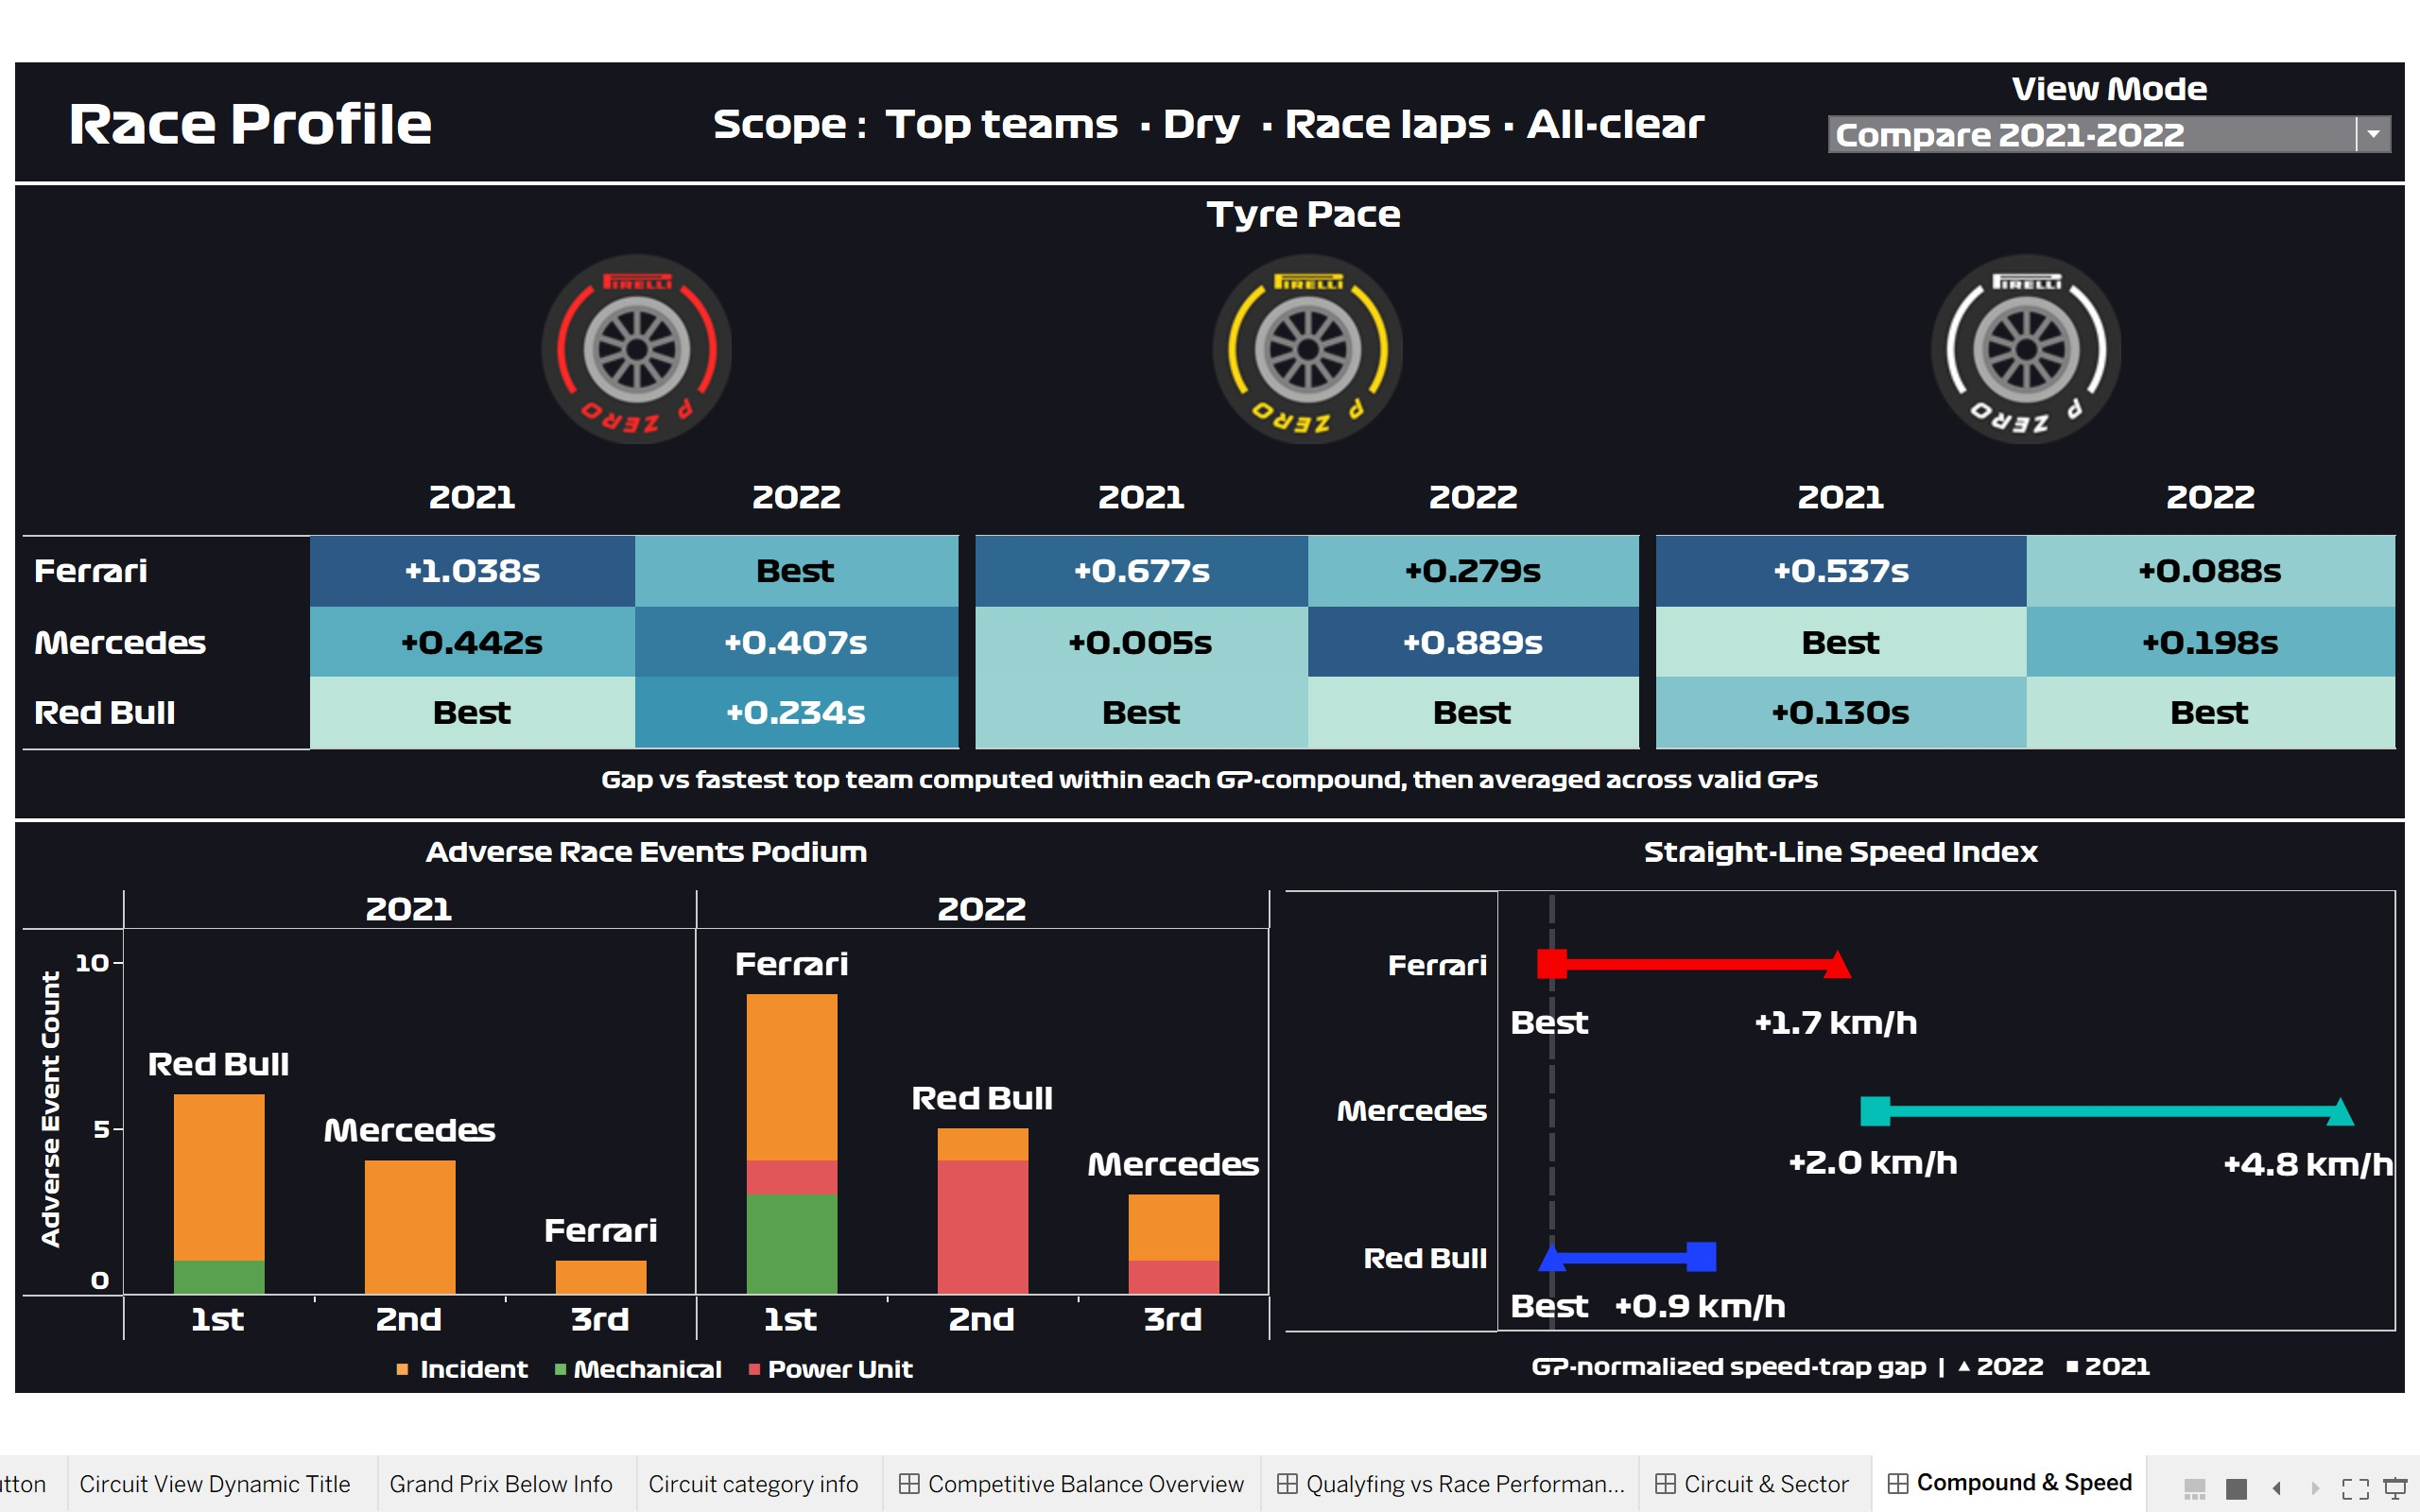

What the dashboard file says about the page in this screenshot:
{"tool":"tableau","page":{"name":"Compound & Speed","canvas":[1280,720],"ordinal":2},"visuals":[{"type":"text","box":[8,8,361,63]},{"type":"text","box":[369,8,591,63]},{"type":"parameter","param":"[Parameters].[Parameter 4]","box":[960,8,312,63]},{"type":"text","box":[8,73,1264,23]},{"type":"blank","box":[8,98,153,109]},{"type":"image","param":"Image/soft_tyre.png","box":[161,98,351,109]},{"type":"image","param":"Image/medium_tyre.png","box":[512,98,360,109]},{"type":"image","param":"Image/hard_tyre.png","box":[872,98,400,109]},{"type":"worksheet","title":"Tyre Pace — Soft","mark":"Square","rows":["team_name"],"cols":["season_year"],"box":[8,207,504,162]},{"type":"worksheet","title":"Tyre Pace — Medium","mark":"Square","rows":["team_name"],"cols":["season_year"],"box":[512,207,360,162]},{"type":"worksheet","title":"Tyre Pace — Hard","mark":"Square","rows":["team_name"],"cols":["season_year"],"box":[872,207,400,162]},{"type":"text","box":[8,369,1264,18]},{"type":"worksheet","title":"Adverse Race Events Podium","mark":"Text","rows":["Calculation_3198775210897408","Calculation_1434608050249745"],"cols":["season_year"],"box":[8,403,668,309]},{"type":"worksheet","title":"Straight-Line Speed Index","mark":"Line","rows":["team_name"],"box":[676,403,596,281]},{"type":"worksheet","title":"Speed Shape Legend","mark":"Automatic","box":[676,684,596,28]}]}

Visuals, with their boxes on the page's 1280x720 design canvas (x1, y1, x2, y2). These are canvas units, not pixel positions in the 2420x1512 screenshot, which may show the page scaled, cropped or inside an application window:
text: select_region(8, 8, 369, 71)
text: select_region(369, 8, 960, 71)
parameter: select_region(960, 8, 1272, 71)
text: select_region(8, 73, 1272, 96)
blank: select_region(8, 98, 161, 207)
image: select_region(161, 98, 512, 207)
image: select_region(512, 98, 872, 207)
image: select_region(872, 98, 1272, 207)
"Tyre Pace — Soft" worksheet (Square marks): select_region(8, 207, 512, 369)
"Tyre Pace — Medium" worksheet (Square marks): select_region(512, 207, 872, 369)
"Tyre Pace — Hard" worksheet (Square marks): select_region(872, 207, 1272, 369)
text: select_region(8, 369, 1272, 387)
"Adverse Race Events Podium" worksheet (Text marks): select_region(8, 403, 676, 712)
"Straight-Line Speed Index" worksheet (Line marks): select_region(676, 403, 1272, 684)
"Speed Shape Legend" worksheet: select_region(676, 684, 1272, 712)
